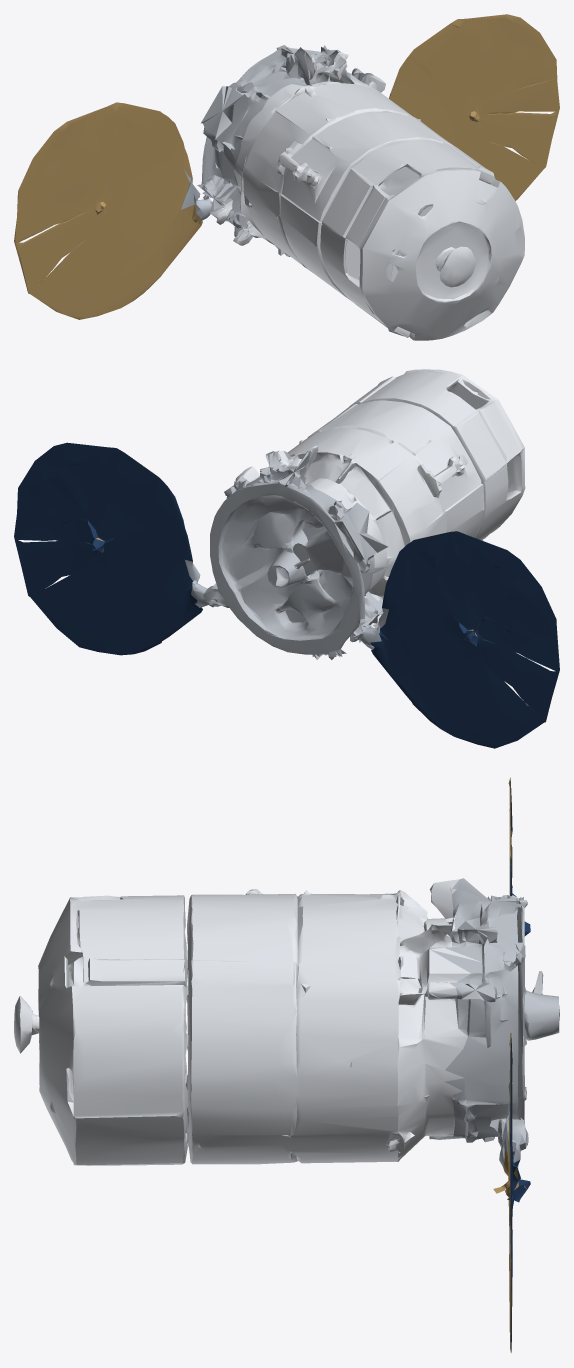
The model's file is cygnus.glb.
3 renders of one model, top to bottom at view 1: azimuth 30°, elevation 25°; view 2: azimuth 150°, elevation 25°; view 3: azimuth 270°, elevation 25°, orthographic. The views are drawn at different scales.
Parts seen in each view (by area): view 1: body, foil; view 2: solar-panel, body, foil; view 3: body, foil, solar-panel.
Part boxes in pixels (left/top/right/bottom): body: left=14, top=14, right=559, bottom=340; foil: left=197, top=45, right=373, bottom=236; solar-panel: left=14, top=442, right=559, bottom=748; body: left=96, top=369, right=525, bottom=649; foil: left=203, top=449, right=387, bottom=659; body: left=14, top=777, right=526, bottom=1352; foil: left=430, top=878, right=559, bottom=1147; solar-panel: left=507, top=781, right=530, bottom=1352.
Size of the model in its own units: 10.37 by 4.28 by 6.39.
